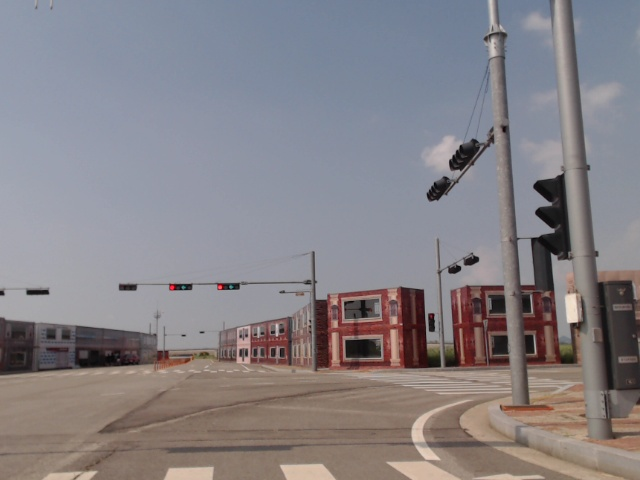left_green_4: (217, 284, 240, 290), (169, 285, 192, 290)
